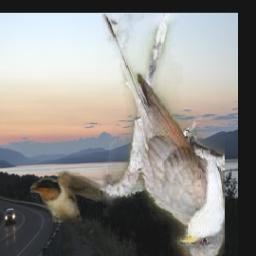Cuckoo: (103, 14, 226, 256)
Swallow: (30, 171, 102, 224)
